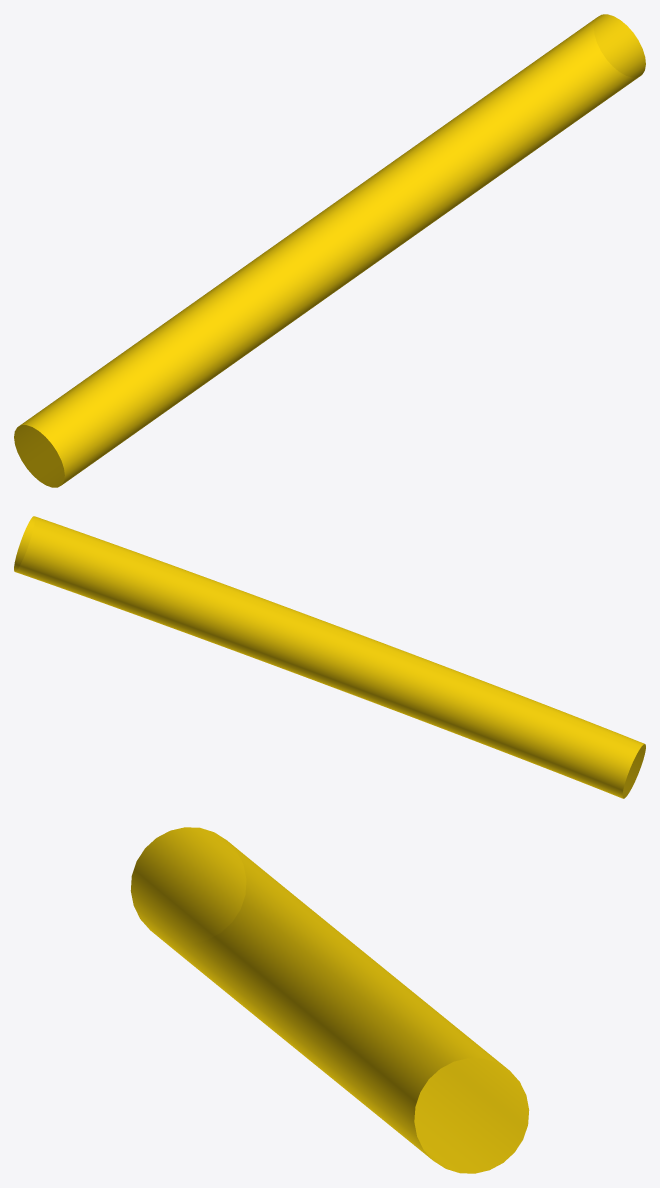
Rendered from Event_420107950_track_33.fbx.
The picture shows the model from 3 angles, top to bottom: view 1: azimuth 30°, elevation 25°; view 2: azimuth 150°, elevation 25°; view 3: azimuth 270°, elevation 25°; orthographic projection. The views are drawn at different scales.
Parts seen in each view (by area): view 1: Model; view 2: Model; view 3: Model.
Part boxes in pixels (x1,y1,x2,y2): Model: [14, 14, 645, 487]; Model: [14, 516, 645, 798]; Model: [130, 827, 529, 1173].
Size of the model in its own units: 0.434 by 0.149 by 0.1347.
